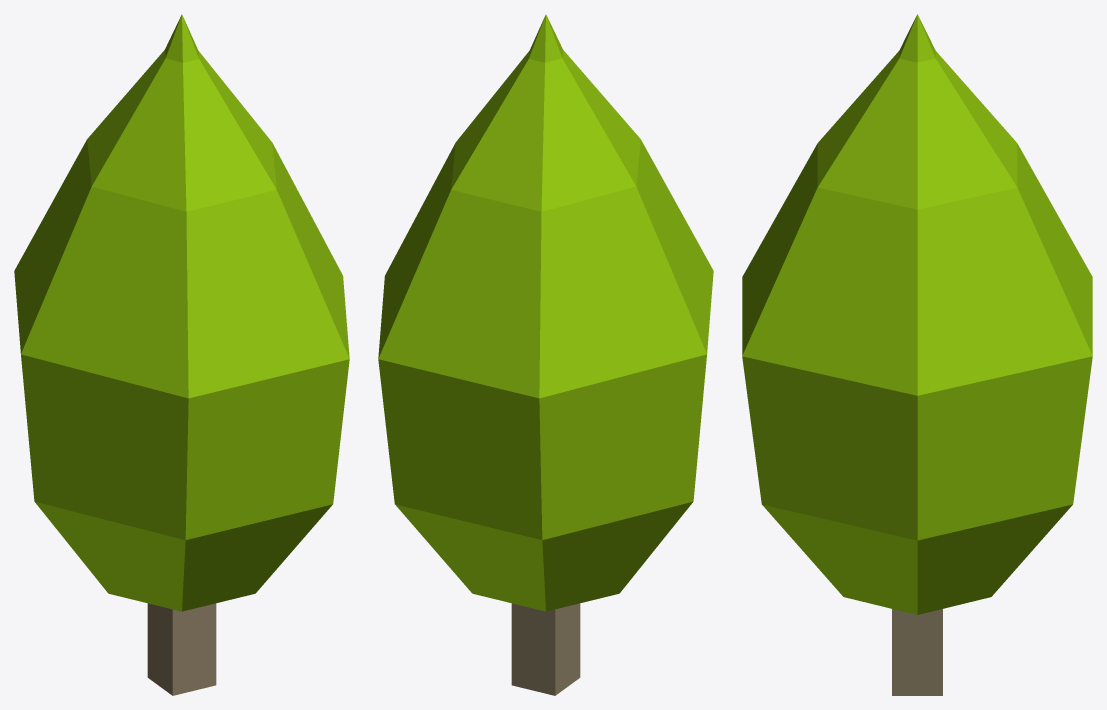
Rendered from tree_cone_7.fbx.
3 renders of one model, left to right at view 1: azimuth 30°, elevation 25°; view 2: azimuth 150°, elevation 25°; view 3: azimuth 270°, elevation 25°, orthographic.
Visible parts, largest first — view 1: tree_cone_7; view 2: tree_cone_7; view 3: tree_cone_7.
Part boxes in pixels (bbox=[...]): tree_cone_7: bbox=[14, 14, 349, 695]; tree_cone_7: bbox=[378, 14, 713, 695]; tree_cone_7: bbox=[742, 14, 1092, 695].
Size of the model in its own units: 90.8 by 180 by 85.09.
